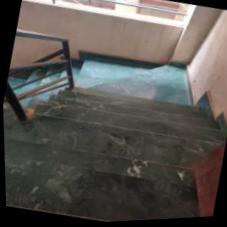Animal: (15, 98, 199, 222)
